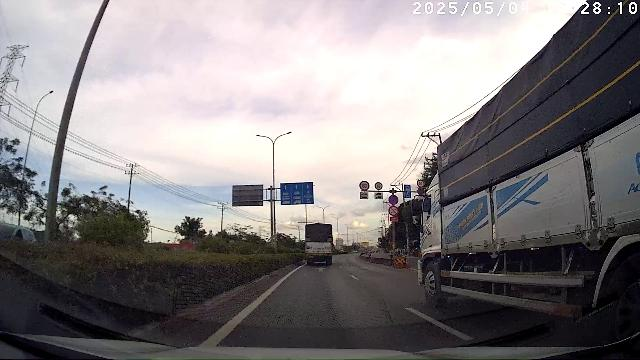127-toc-do-toi-da-50: (418, 179, 424, 187)
127-toc-do-toi-da-60: (374, 180, 384, 189)
127-toc-do-toi-da-80: (358, 180, 369, 190)
130-cam-dung-va-do-xe: (388, 195, 398, 205)
